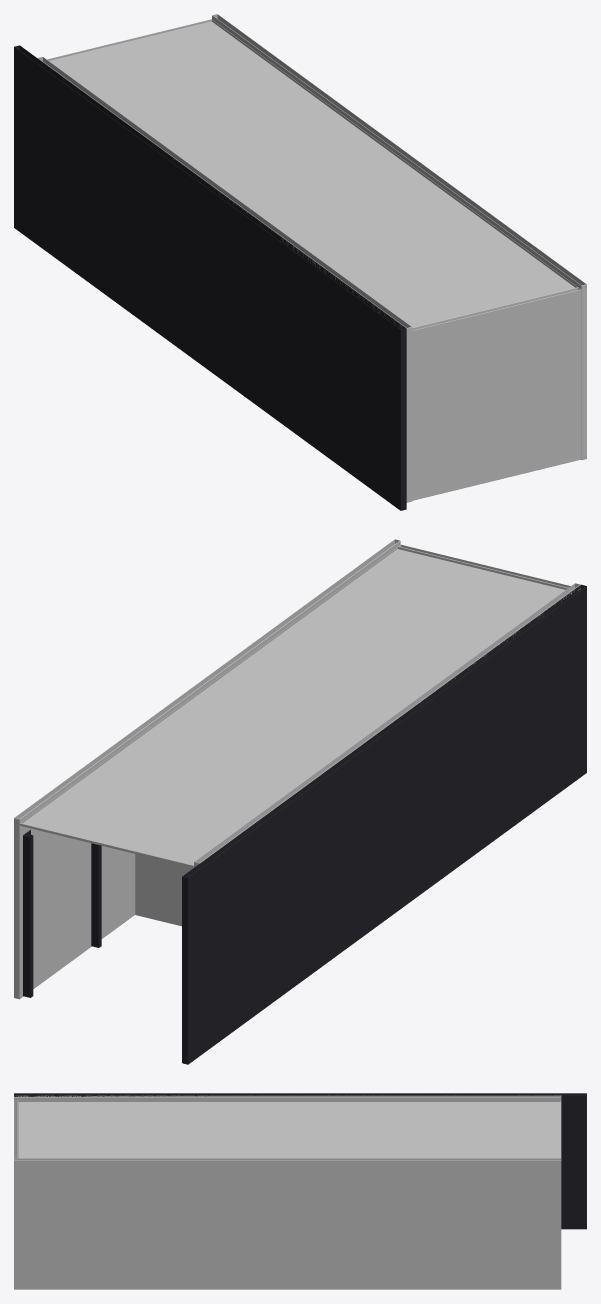
The model's file is SM_Kitchen_01_Base.obj.
3 views of the same model, one above another, from view 1: azimuth 30°, elevation 25°; view 2: azimuth 150°, elevation 25°; view 3: azimuth 270°, elevation 25° (orthographic). The views are drawn at different scales.
Parts seen in each view (by area): view 1: SM_Kitchen_01_Base; view 2: SM_Kitchen_01_Base; view 3: SM_Kitchen_01_Base.
Part boxes in pixels (x1=…): SM_Kitchen_01_Base: x1=14, y1=14, x2=586, y2=510; SM_Kitchen_01_Base: x1=14, y1=539, x2=586, y2=1064; SM_Kitchen_01_Base: x1=14, y1=1093, x2=586, y2=1289.
Bounding box in the file's own units: 0.6199 × 0.5759 × 2.23.
Materials: 3 (2 with a texture image).
